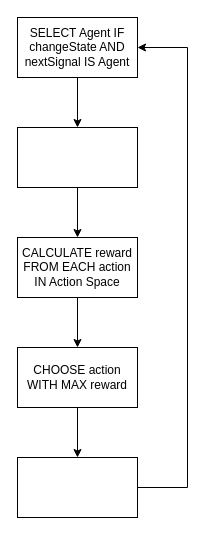
Image size: 213x535. Some labels were removed from this diagram. The centre of each missing label's shape, as x and y in pixels:
GET queueLength FROM Agent Lane: [77,157]
SET Agent Light TO Green FOR TIME EQUALS action: [77,487]
